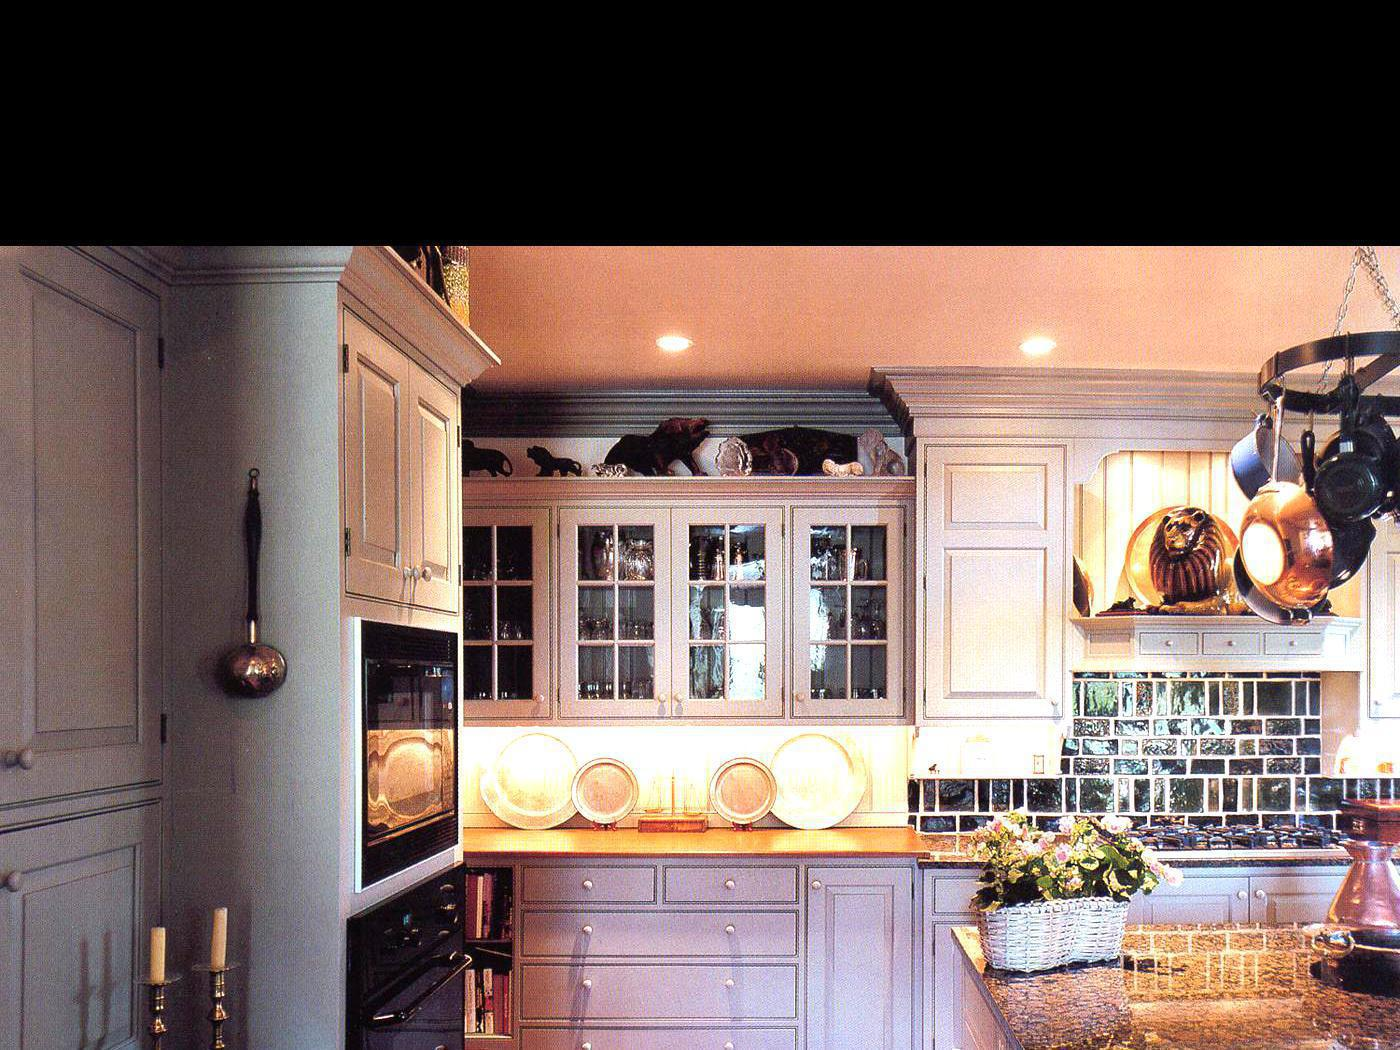Armario: (344, 283, 454, 1050)
